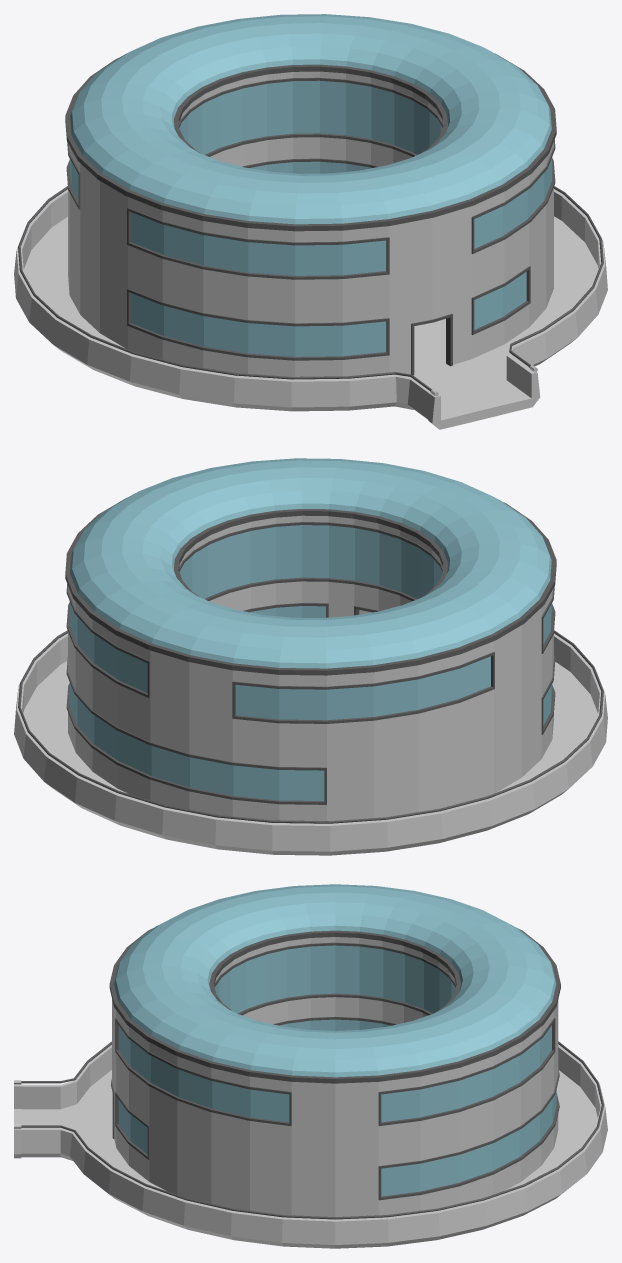
Rendered from bubbleHome1.fbx.
3 renders of one model, top to bottom at view 1: azimuth 30°, elevation 25°; view 2: azimuth 150°, elevation 25°; view 3: azimuth 270°, elevation 25°, orthographic. The views are drawn at different scales.
Visible parts, largest first — view 1: Glass, Wall, Frame, Floor; view 2: Glass, Wall, Frame, Floor; view 3: Glass, Wall, Frame, Floor.
Part boxes in pixels (left/top/right/bottom): Glass: left=69, top=14, right=552, bottom=356; Wall: left=14, top=71, right=607, bottom=429; Frame: left=18, top=53, right=603, bottom=391; Floor: left=23, top=216, right=598, bottom=416; Glass: left=69, top=458, right=552, bottom=800; Wall: left=14, top=515, right=607, bottom=855; Frame: left=18, top=498, right=603, bottom=823; Floor: left=23, top=661, right=598, bottom=793; Glass: left=114, top=884, right=556, bottom=1196; Wall: left=14, top=937, right=607, bottom=1248; Frame: left=21, top=928, right=604, bottom=1219; Floor: left=21, top=1070, right=597, bottom=1190.
Size of the model in its own units: 22 by 7.64 by 23.96.
